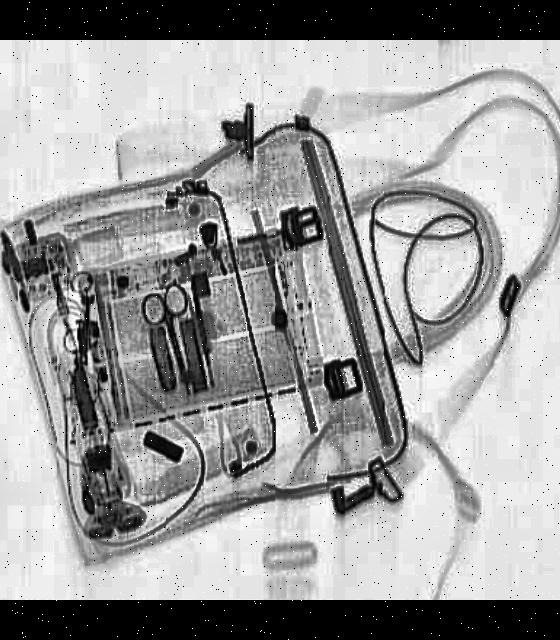Scissors: (134, 280, 210, 398)
